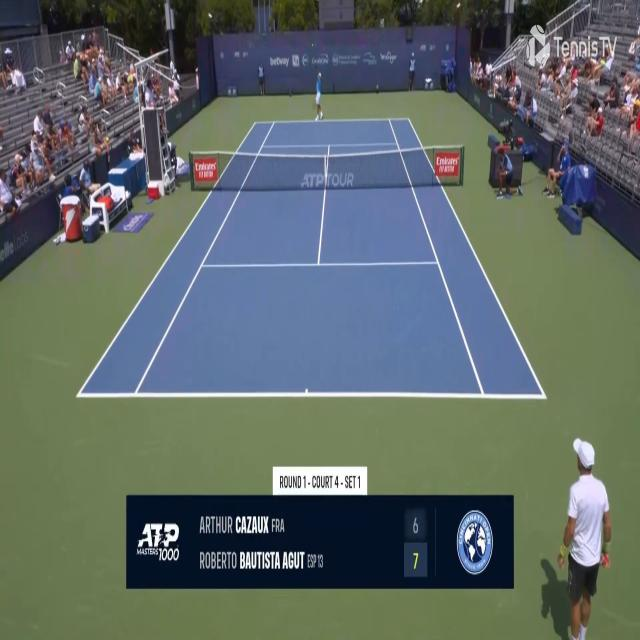tennis-player: (538, 434, 614, 639), (313, 68, 325, 122)
